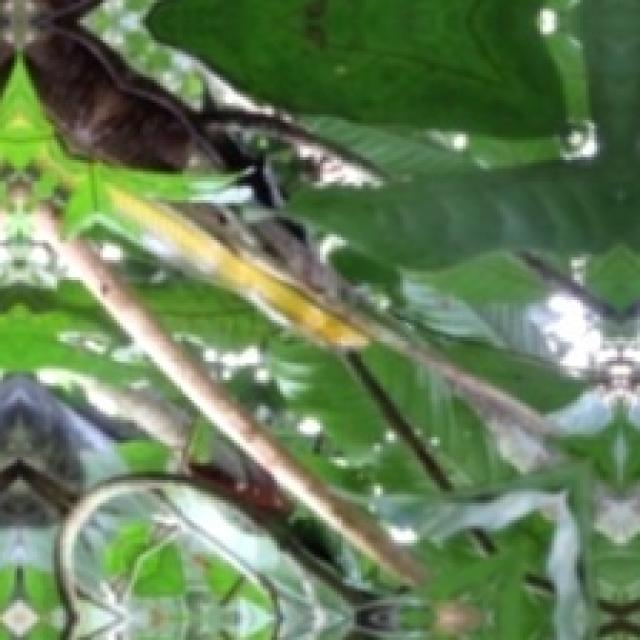red-tailed green ratsnake: (108, 185, 371, 349)
